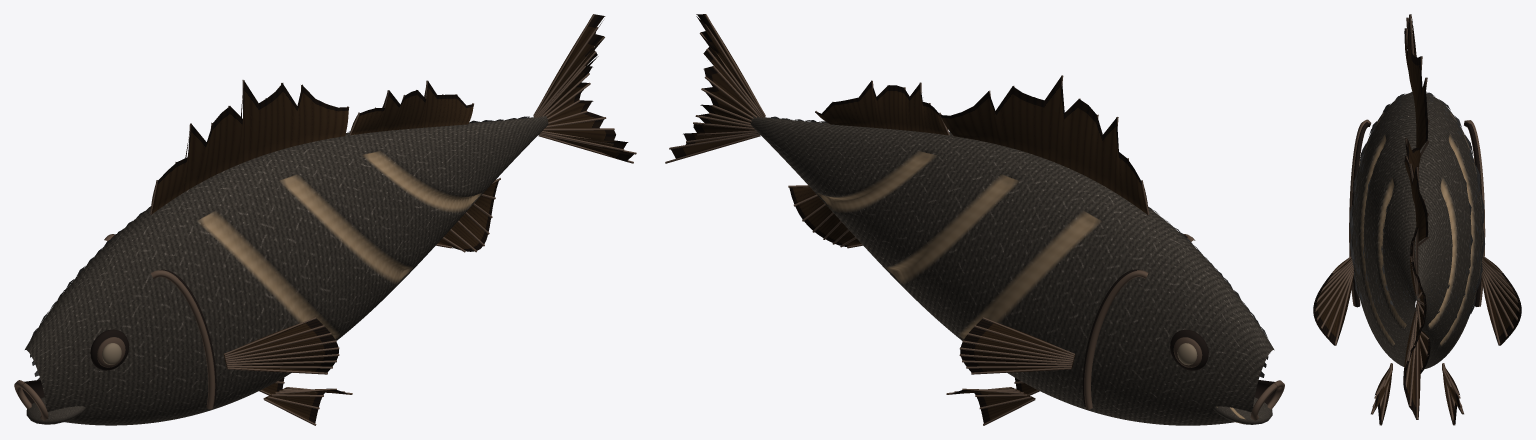
Rendered from burnt_cragfin.glb.
3 renders of one model, left to right at view 1: azimuth 30°, elevation 25°; view 2: azimuth 150°, elevation 25°; view 3: azimuth 270°, elevation 25°, orthographic. The views are drawn at different scales.
Parts seen in each view (by area): view 1: Scaled cracked charcoal skin, Fin web carbonized, Fin rays and lip edges, Deep oral cavity; view 2: Scaled cracked charcoal skin, Fin web carbonized, Fin rays and lip edges, Deep oral cavity; view 3: Scaled cracked charcoal skin, Fin web carbonized, Fin rays and lip edges, Raised charcoal crust flakes, Deep oral cavity.
Boxes of the visible parts, box(x1,y1,x2,y2) form: Scaled cracked charcoal skin: box(25, 116, 548, 425); Fin web carbonized: box(151, 14, 635, 423); Fin rays and lip edges: box(14, 14, 636, 425); Deep oral cavity: box(22, 234, 216, 406); Scaled cracked charcoal skin: box(750, 116, 1274, 425); Fin web carbonized: box(671, 14, 1148, 423); Fin rays and lip edges: box(665, 14, 1284, 425); Deep oral cavity: box(1082, 234, 1277, 412); Scaled cracked charcoal skin: box(1351, 92, 1483, 369); Fin web carbonized: box(1313, 14, 1521, 425); Fin rays and lip edges: box(1315, 14, 1519, 424); Raised charcoal crust flakes: box(1349, 92, 1484, 319); Deep oral cavity: box(1352, 122, 1482, 307).
Size of the model in its own units: 0.775 by 0.4239 by 0.2103.
7 materials, 2 textured.
